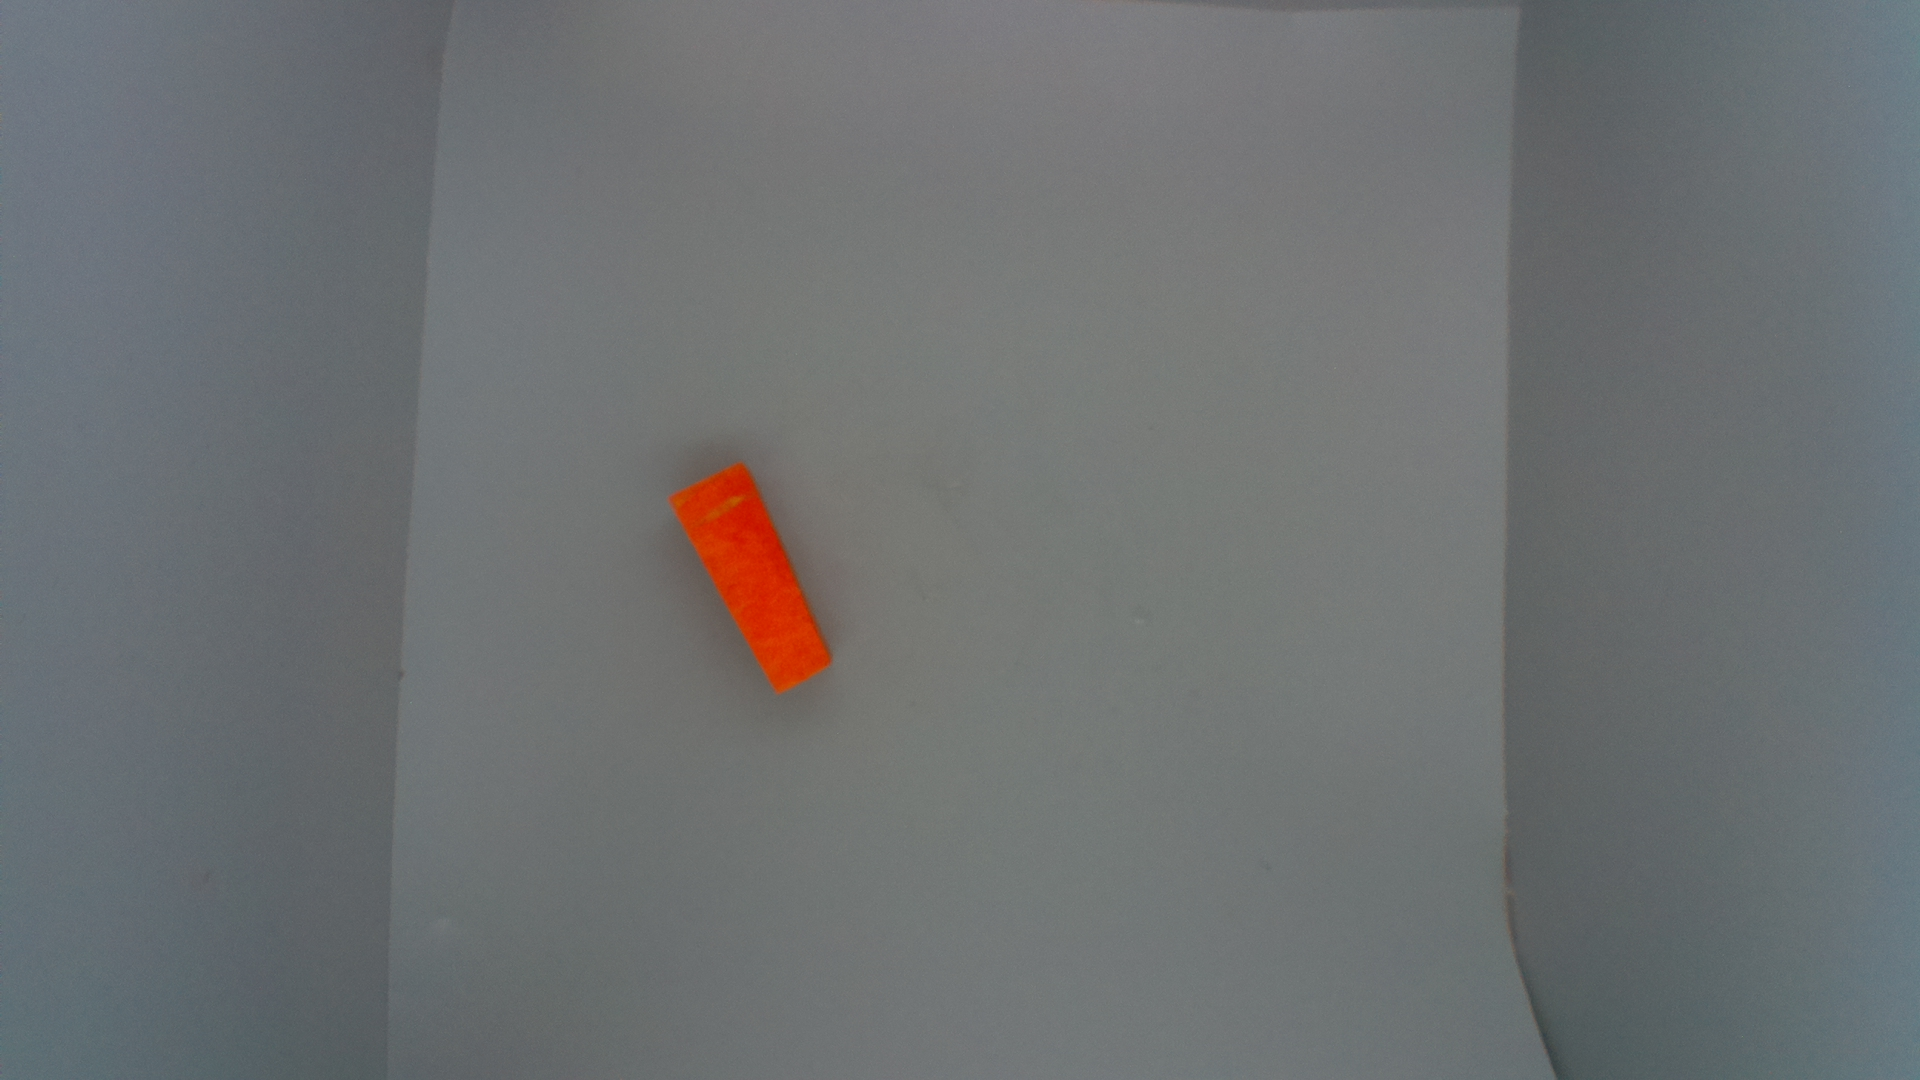carrot: (669, 458, 837, 702)
